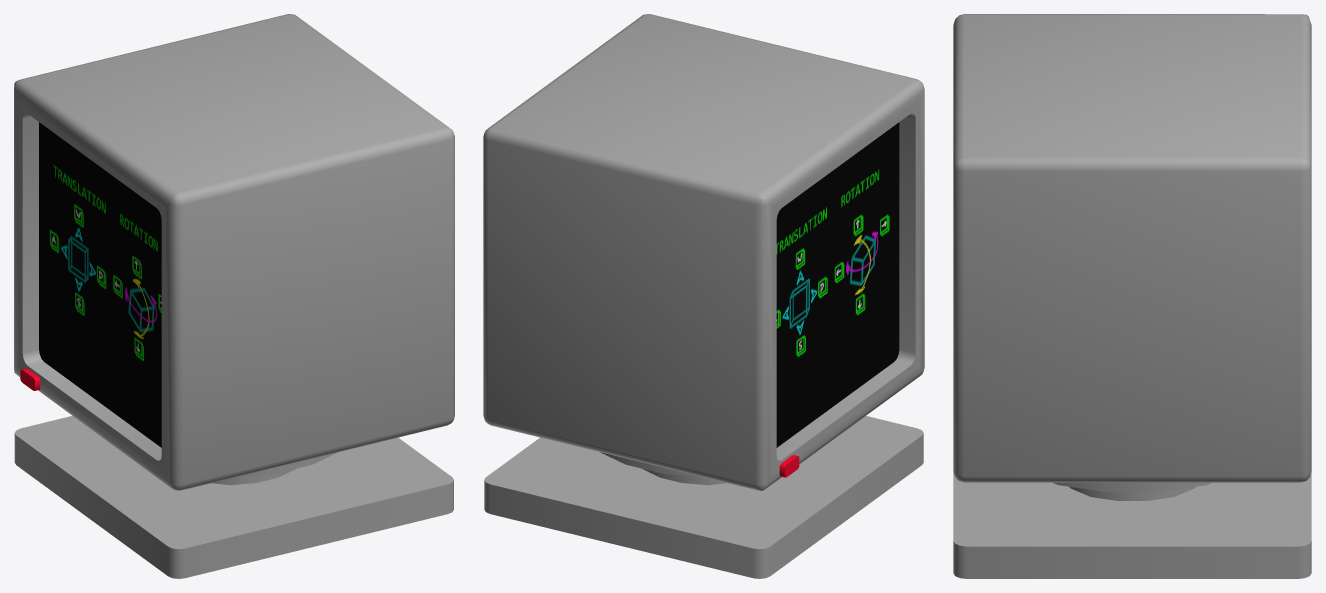
The model's file is monitor.fbx.
3 renders of one model, left to right at view 1: azimuth 30°, elevation 25°; view 2: azimuth 150°, elevation 25°; view 3: azimuth 270°, elevation 25°, orthographic. The views are drawn at different scales.
Parts seen in each view (by area): view 1: Cube, Cube.001, Plane; view 2: Cube, Cube.001, Plane; view 3: Cube, Cube.001, Cube.003, Cube.002.
Part boxes in pixels (x1,y1,x2,y2): Cube: (14, 14, 454, 490); Cube.001: (14, 416, 453, 578); Plane: (39, 122, 161, 447); Cube: (483, 14, 924, 490); Cube.001: (484, 416, 923, 578); Plane: (776, 122, 899, 447); Cube: (953, 14, 1311, 482); Cube.001: (953, 472, 1311, 578); Cube.003: (1053, 482, 1211, 492); Cube.002: (1069, 486, 1195, 500).
Bounding box in the file's own units: 204 × 257 × 200.
Materials: 6 (1 with a texture image).
